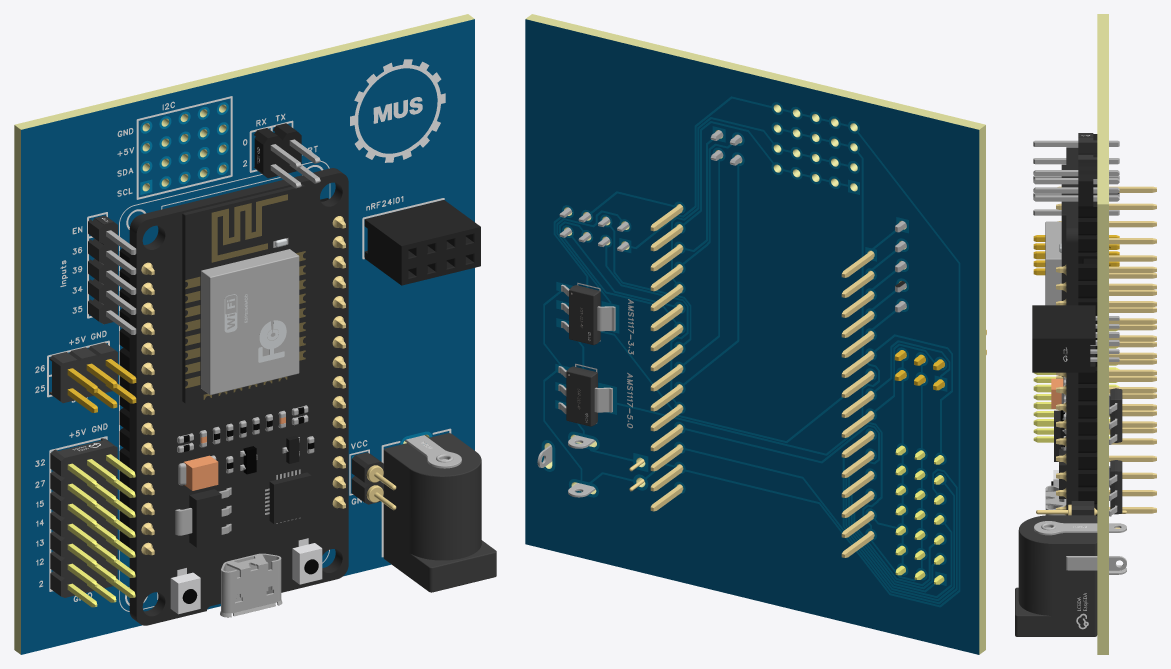
The model's file is Universal Transceiver.obj.
The picture shows the model from 3 angles, left to right: view 1: azimuth 30°, elevation 25°; view 2: azimuth 150°, elevation 25°; view 3: azimuth 270°, elevation 25°; orthographic projection. The views are drawn at different scales.
Visible parts, largest first — view 1: obj5, obj6, obj26, obj3, obj22, obj2, obj4, obj12, obj8, obj15, obj14, obj24 (+9 smaller); view 2: obj5, obj9, obj8, obj4, obj26, obj25, obj12, obj23; view 3: obj26, obj8, obj4, obj22, obj7, obj6, obj23, obj25, obj3, obj12, obj24, obj11 (+3 smaller).
Boxes of the visible parts, bbox=[...] form: obj5: bbox=[21, 19, 474, 654]; obj6: bbox=[129, 168, 348, 625]; obj26: bbox=[49, 342, 496, 597]; obj3: bbox=[175, 238, 308, 535]; obj22: bbox=[254, 123, 480, 285]; obj2: bbox=[35, 59, 451, 611]; obj4: bbox=[14, 14, 474, 654]; obj12: bbox=[67, 454, 135, 607]; obj8: bbox=[141, 216, 396, 555]; obj15: bbox=[220, 436, 314, 617]; obj14: bbox=[185, 194, 305, 399]; obj24: bbox=[88, 215, 383, 504]; obj5: bbox=[525, 19, 979, 654]; obj9: bbox=[541, 96, 960, 607]; obj8: bbox=[629, 204, 874, 557]; obj4: bbox=[525, 14, 985, 654]; obj26: bbox=[566, 285, 600, 426]; obj25: bbox=[537, 284, 615, 497]; obj12: bbox=[895, 445, 944, 584]; obj23: bbox=[559, 130, 906, 312]; obj26: bbox=[1015, 388, 1122, 636]; obj8: bbox=[1036, 186, 1156, 528]; obj4: bbox=[1097, 14, 1108, 654]; obj22: bbox=[1032, 162, 1119, 372]; obj7: bbox=[1078, 184, 1097, 516]; obj6: bbox=[1054, 147, 1078, 515]; obj23: bbox=[1033, 140, 1119, 361]; obj25: bbox=[1034, 394, 1126, 574]; obj3: bbox=[1045, 221, 1066, 449]; obj12: bbox=[1033, 330, 1119, 442]; obj24: bbox=[1071, 133, 1097, 515]; obj11: bbox=[1033, 235, 1119, 275].
Bounding box in the file's own units: 60.3 × 66.65 × 19.
